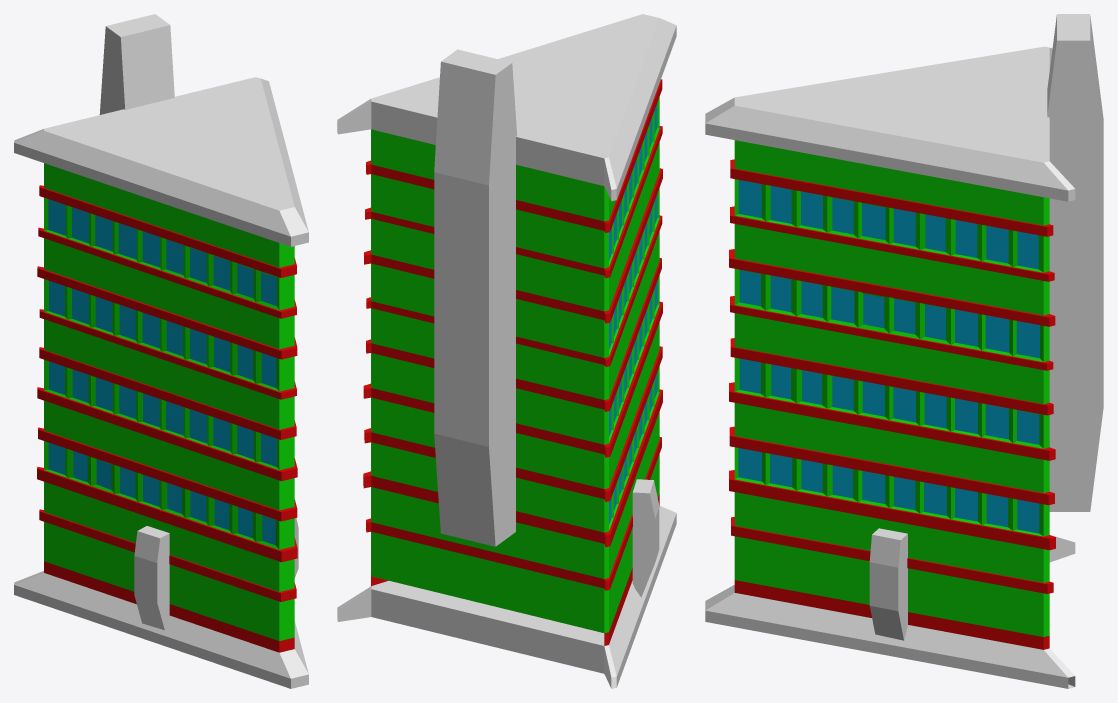
File: HighRiseBuilding.fbx
3 renders of one model, left to right at view 1: azimuth 30°, elevation 25°; view 2: azimuth 150°, elevation 25°; view 3: azimuth 270°, elevation 25°, orthographic. The views are drawn at different scales.
Parts seen in each view (by area): view 1: Cube, Cube.002, Cube.003, Cube.001, Cube.005; view 2: Cube, Cube.001, Cube.002, Cube.003, Cube.005; view 3: Cube, Cube.002, Cube.001, Cube.003, Cube.004.
Part boxes in pixels (<box>): Cube: <box>37,163,297,652</box>; Cube.002: <box>14,77,308,246</box>; Cube.003: <box>14,571,308,688</box>; Cube.001: <box>99,14,174,114</box>; Cube.005: <box>134,526,169,630</box>; Cube: <box>363,79,662,645</box>; Cube.001: <box>434,49,517,546</box>; Cube.002: <box>337,14,676,201</box>; Cube.003: <box>337,506,676,688</box>; Cube.005: <box>632,479,659,597</box>; Cube: <box>729,140,1055,649</box>; Cube.002: <box>705,46,1075,201</box>; Cube.001: <box>1047,14,1103,511</box>; Cube.003: <box>705,535,1075,688</box>; Cube.004: <box>869,528,907,640</box>.
Size of the model in its own units: 1848 by 3736 by 2276.
